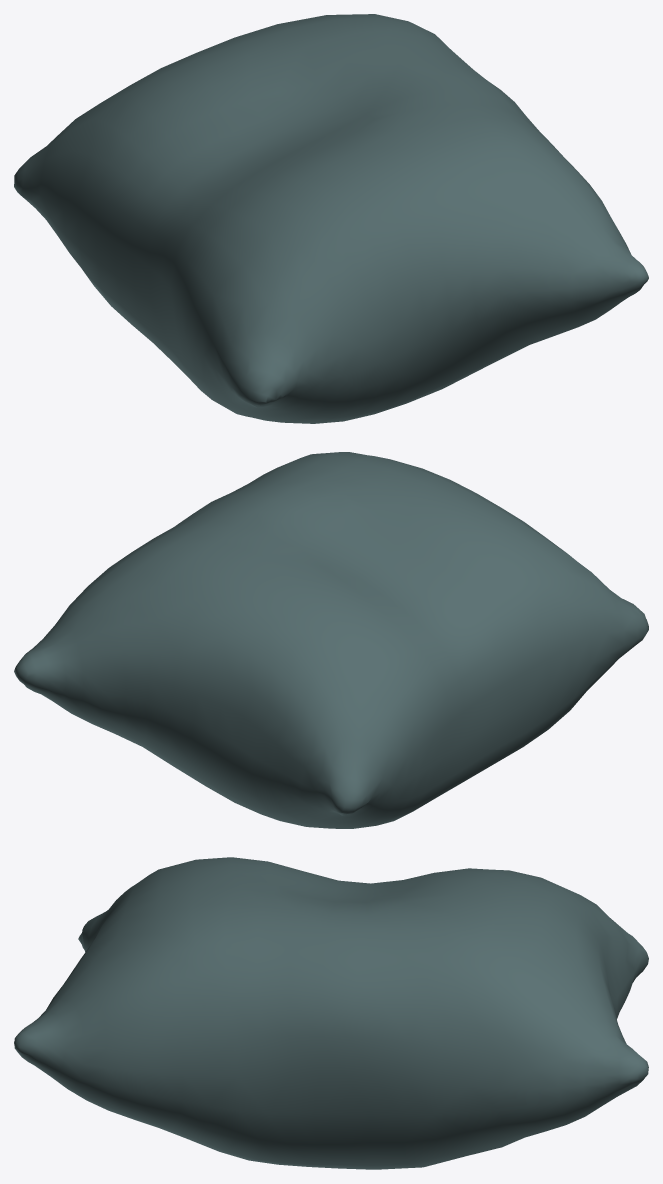
Rendered from pillow.fbx.
The picture shows the model from 3 angles, top to bottom: view 1: azimuth 30°, elevation 25°; view 2: azimuth 150°, elevation 25°; view 3: azimuth 270°, elevation 25°; orthographic projection. The views are drawn at different scales.
Visible parts, largest first — view 1: pillow1; view 2: pillow1; view 3: pillow1.
Boxes of the visible parts, x1,y1,x2,y2 form: pillow1: (14, 14, 648, 423); pillow1: (14, 452, 648, 828); pillow1: (14, 857, 648, 1169).
Size of the model in its own units: 22.57 by 13.65 by 29.63.
